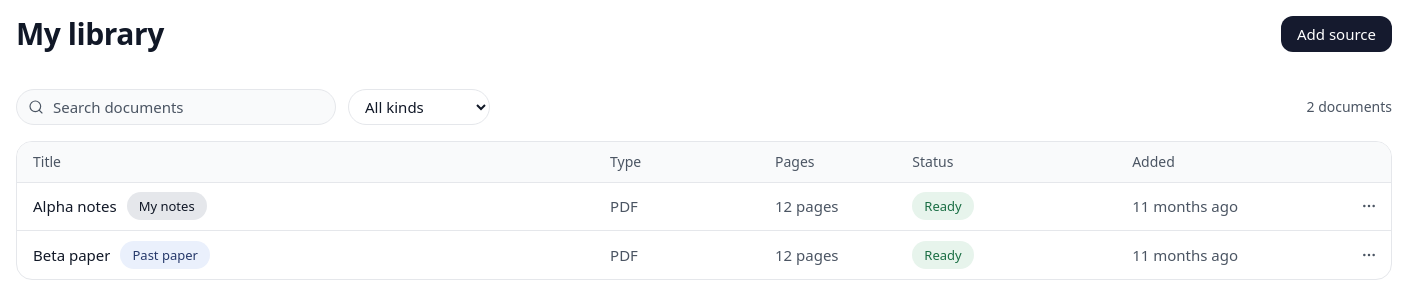
Test: document kinds › filters by kind, and offers the filter only when kinds are mixed
Select "Past paper" in the dropdown named "Kind": (419, 107) [348,89,490,125]
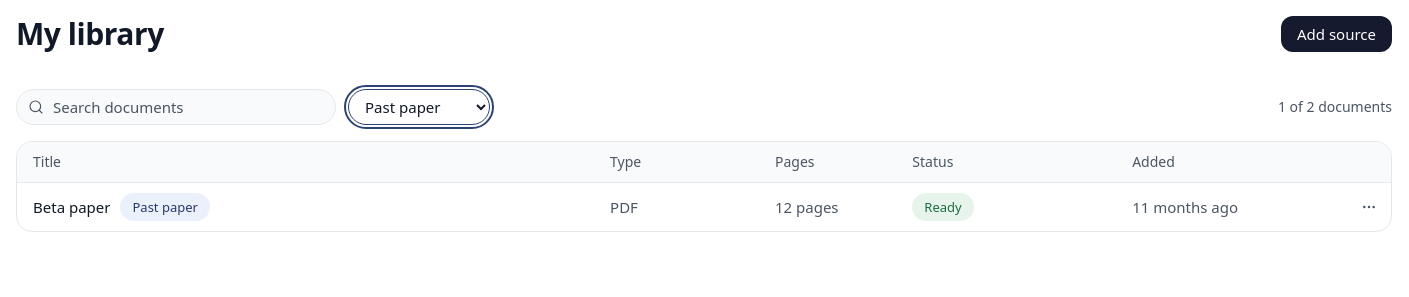
Expected: the link "Beta paper" is shown, [33,196,110,218]
Expected: the link "Alpha notes" is gone
